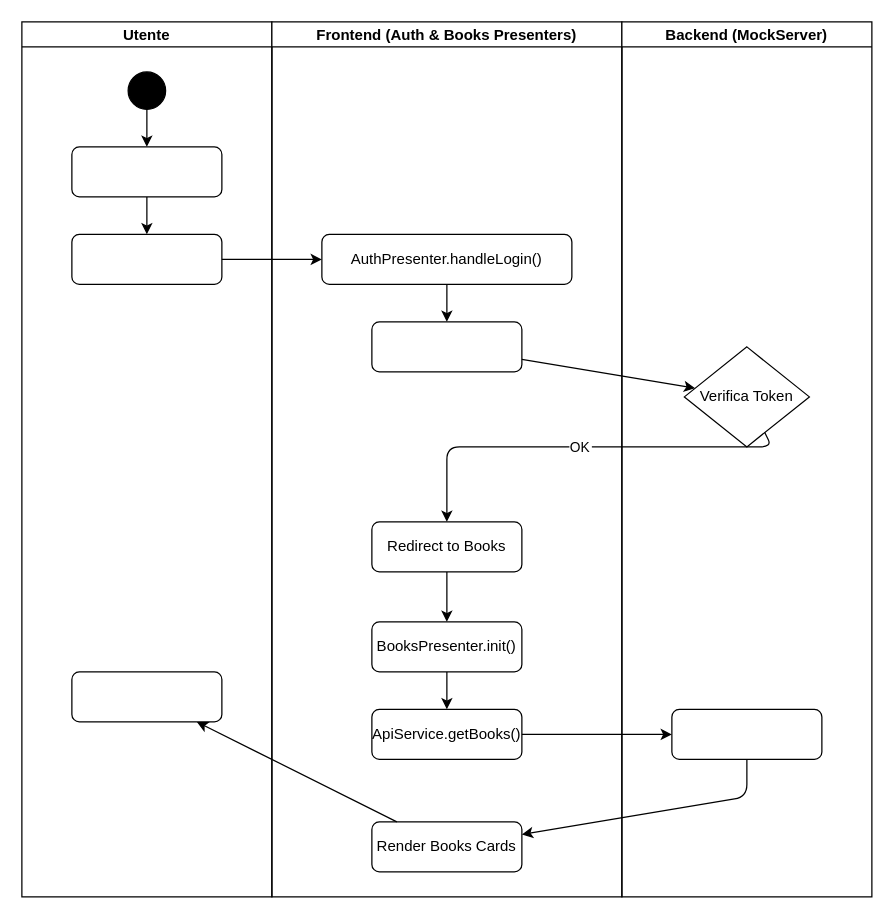
Image size: 894x919. Some labels were removed from this diagram. The centre of each missing label's shape, as x and y in pixels:
ApiService.login(): the point at 446,346
Clicca Accedi: the point at 146,258
Compila Login: the point at 146,171
Ritorna Lista Libri: the point at 746,733
Visualizza Bacheca: the point at 146,696
